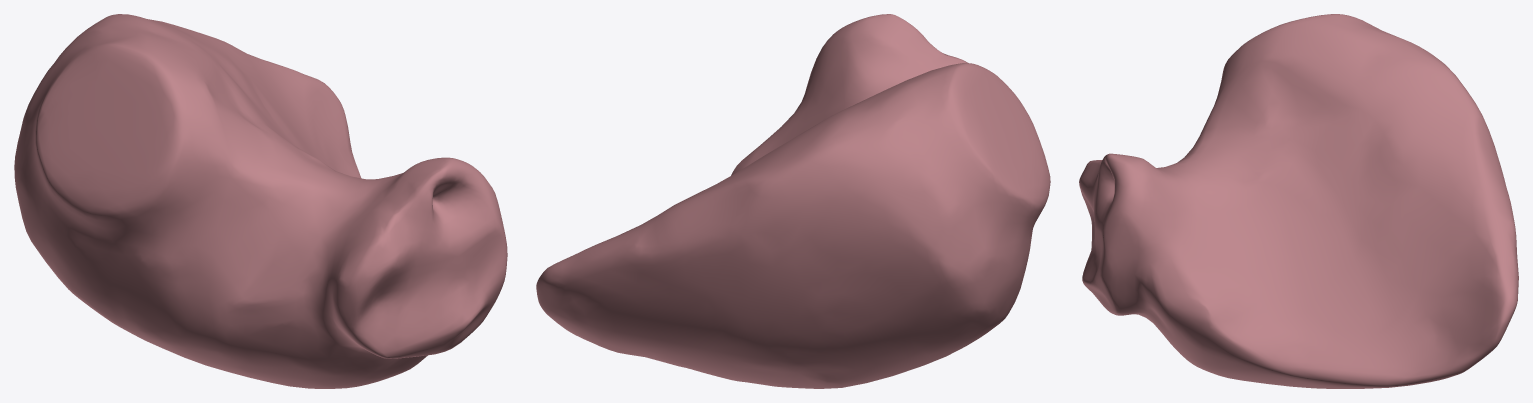
3 views of the same model, side by side, from view 1: azimuth 30°, elevation 25°; view 2: azimuth 150°, elevation 25°; view 3: azimuth 270°, elevation 25° (orthographic). The views are drawn at different scales.
Parts seen in each view (by area): view 1: structure; view 2: structure; view 3: structure.
Boxes of the visible parts, bbox=[...] form: structure: bbox=[14, 14, 507, 388]; structure: bbox=[536, 14, 1050, 388]; structure: bbox=[1079, 14, 1518, 388].
Size of the model in its own units: 71.5 by 58.2 by 80.48.
